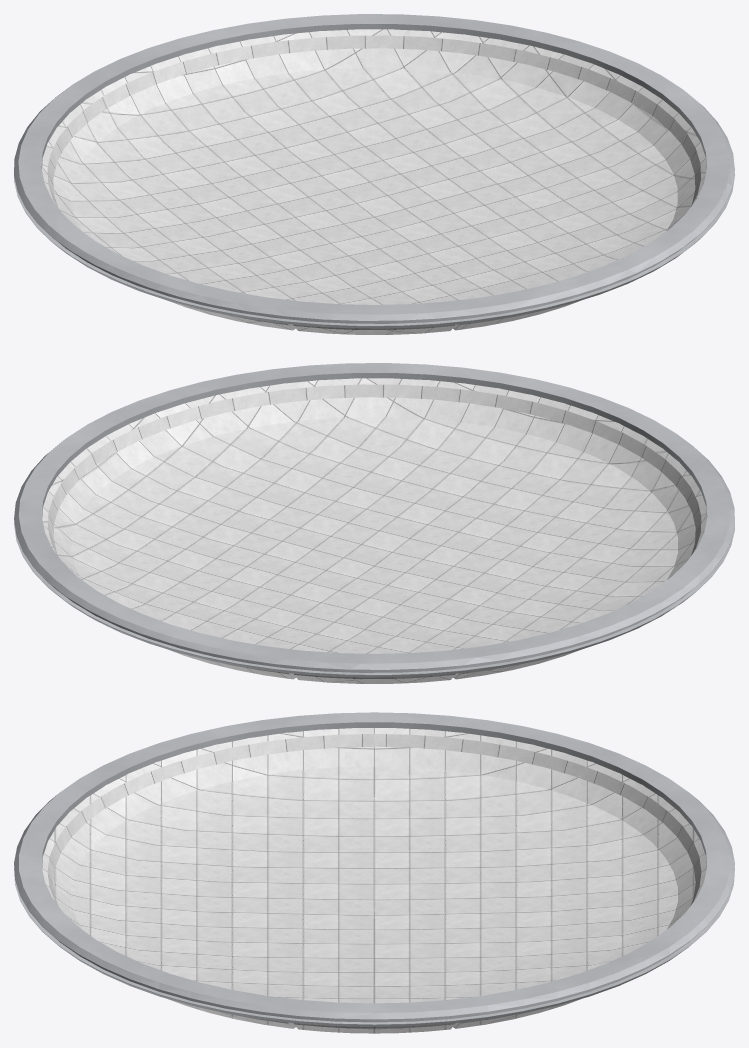
Rendered from ax_cmd_15_heat_shield_kestrel.glb.
3 views of the same model, one above another, from view 1: azimuth 30°, elevation 25°; view 2: azimuth 150°, elevation 25°; view 3: azimuth 270°, elevation 25° (orthographic).
Parts seen in each view (by area): view 1: ablator_dish, carrier_ring; view 2: ablator_dish, carrier_ring; view 3: ablator_dish, carrier_ring.
Boxes of the visible parts, x1,y1,x2,y2 form: ablator_dish: [42, 29, 706, 334]; carrier_ring: [14, 14, 734, 328]; ablator_dish: [42, 378, 706, 683]; carrier_ring: [14, 363, 734, 677]; ablator_dish: [42, 728, 706, 1033]; carrier_ring: [14, 712, 734, 1026].
Size of the model in its own units: 3.05 by 0.2953 by 3.05.
Materials: 2 (2 with a texture image).
